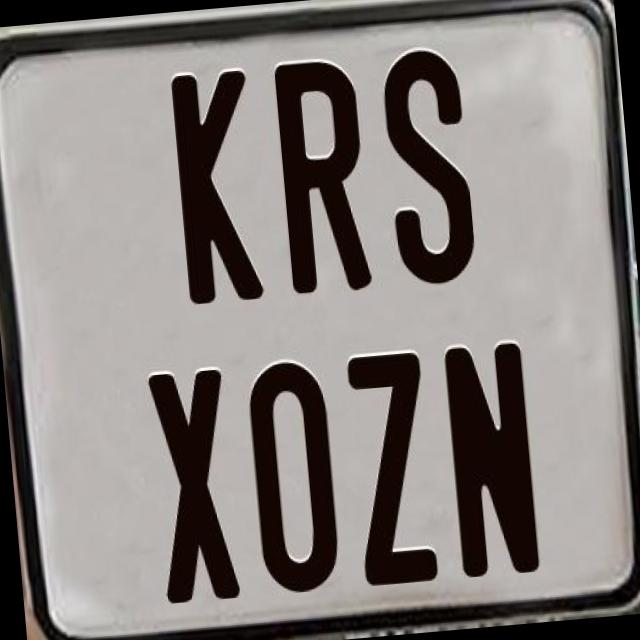0: (244, 353, 348, 598)
K: (167, 68, 270, 311)
N: (443, 338, 542, 582)
R: (270, 58, 368, 294)
S: (376, 43, 474, 290)
X: (143, 366, 237, 602)
Z: (344, 346, 444, 589)
